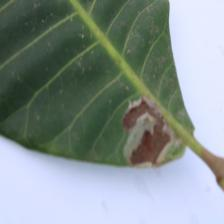leaf miner: (114, 92, 186, 168)
